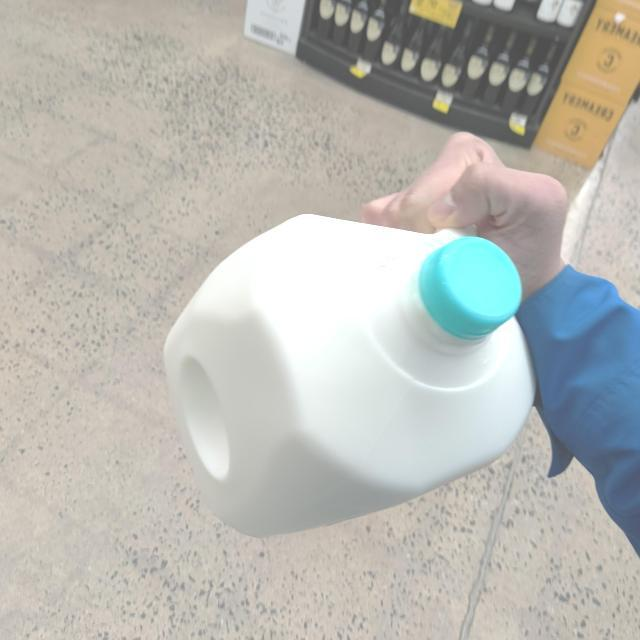Milk: (160, 214, 532, 536)
